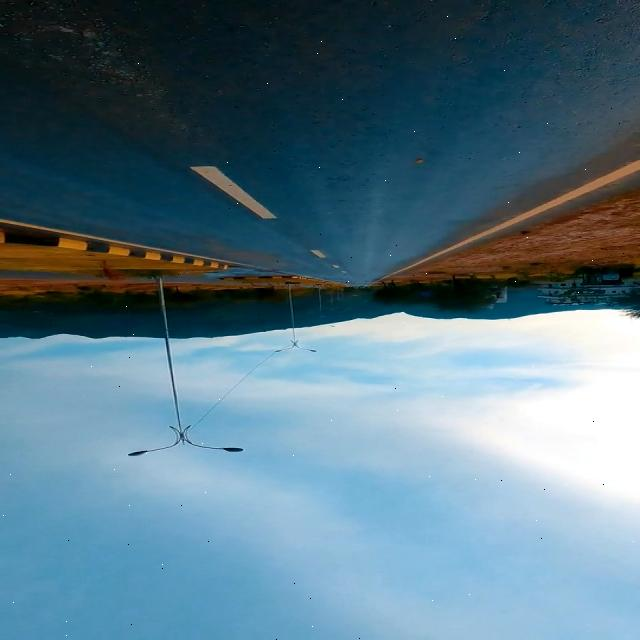lane: (2, 1, 638, 285), (375, 161, 640, 283), (192, 167, 276, 219)
road: (2, 1, 638, 285), (2, 1, 638, 285)
